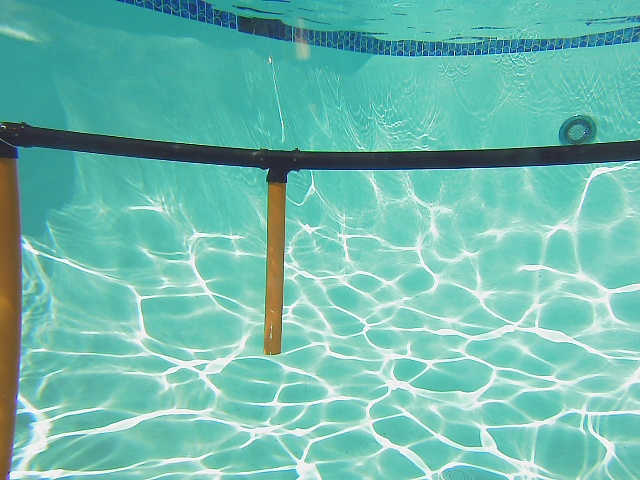Gate: (2, 153, 25, 480), (260, 176, 290, 360)
